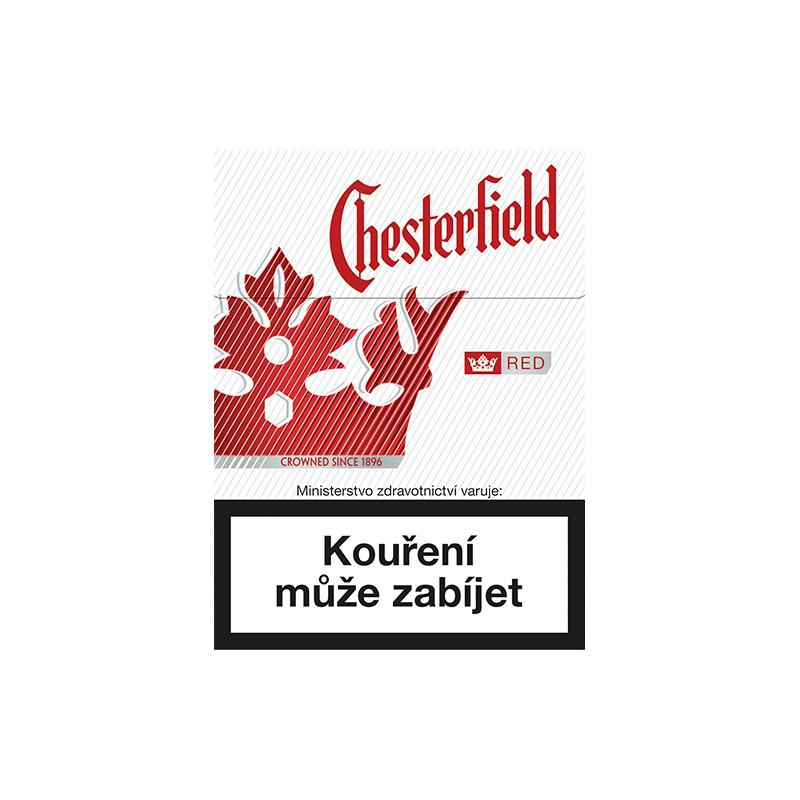chesterfield_red: (217, 154, 583, 651)
